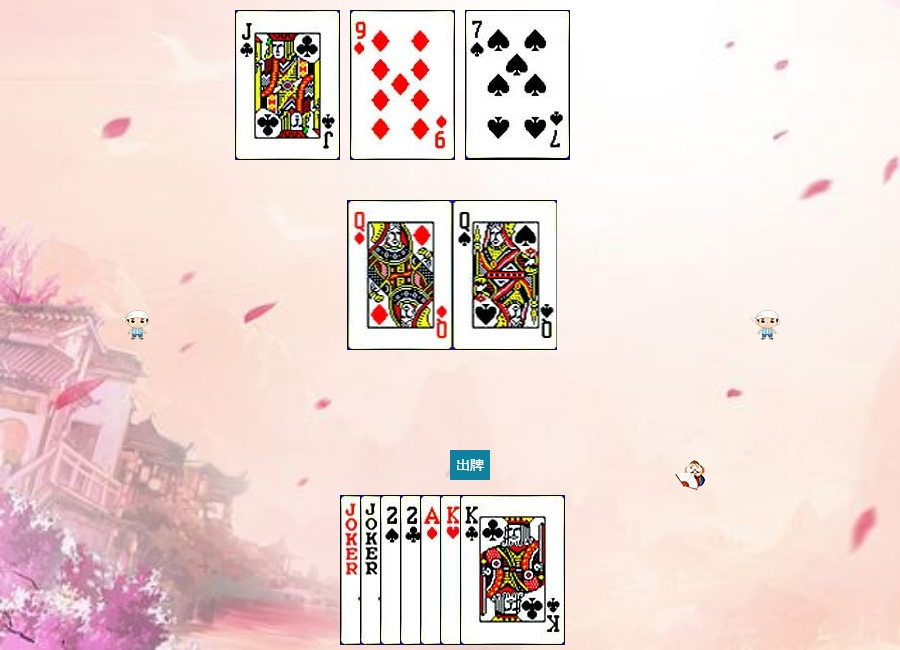11~2: (235, 10, 340, 160)
12~1: (348, 200, 453, 350)
12~4: (453, 200, 558, 350)
13~2: (460, 495, 565, 645)
13~3: (440, 495, 545, 645)
14~1: (420, 495, 525, 645)
15~2: (400, 495, 505, 645)
15~4: (380, 495, 485, 645)
17~3: (360, 495, 465, 645)
18~4: (340, 495, 445, 645)
7~4: (465, 10, 570, 160)
9~1: (350, 10, 455, 160)
